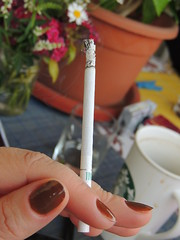cigarette: (74, 35, 100, 237)
